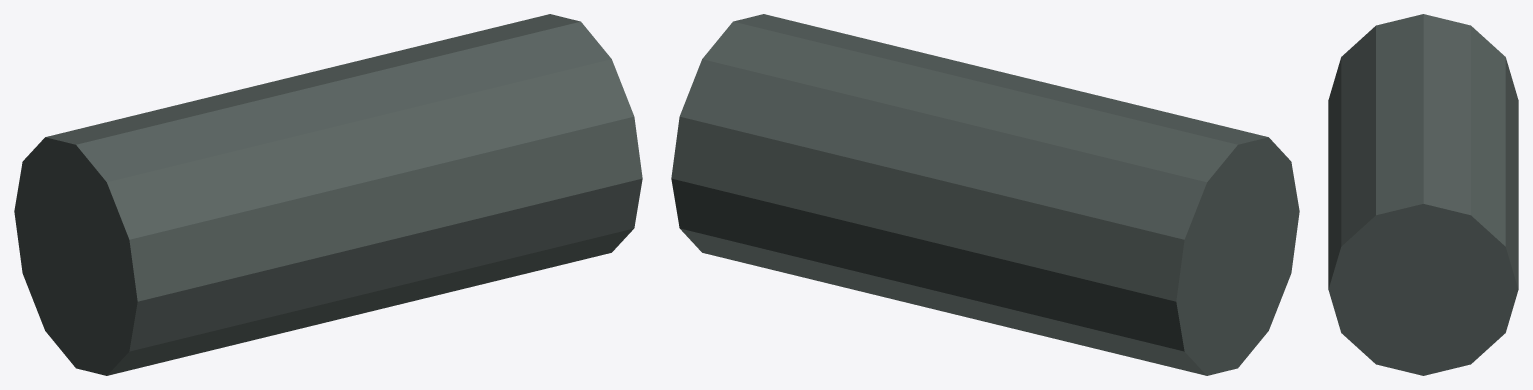
File: DoorMount__Pitch.obj
3 renders of one model, left to right at view 1: azimuth 30°, elevation 25°; view 2: azimuth 150°, elevation 25°; view 3: azimuth 270°, elevation 25°, orthographic. The views are drawn at different scales.
Visible parts, largest first — view 1: Pitch_cross_pin; view 2: Pitch_cross_pin; view 3: Pitch_cross_pin.
Part boxes in pixels (x1,y1,x2,y2): Pitch_cross_pin: (14,14,642,375); Pitch_cross_pin: (671,14,1299,375); Pitch_cross_pin: (1328,14,1518,375).
Bounding box in the file's own units: 0.26 × 0.11 × 0.11.
